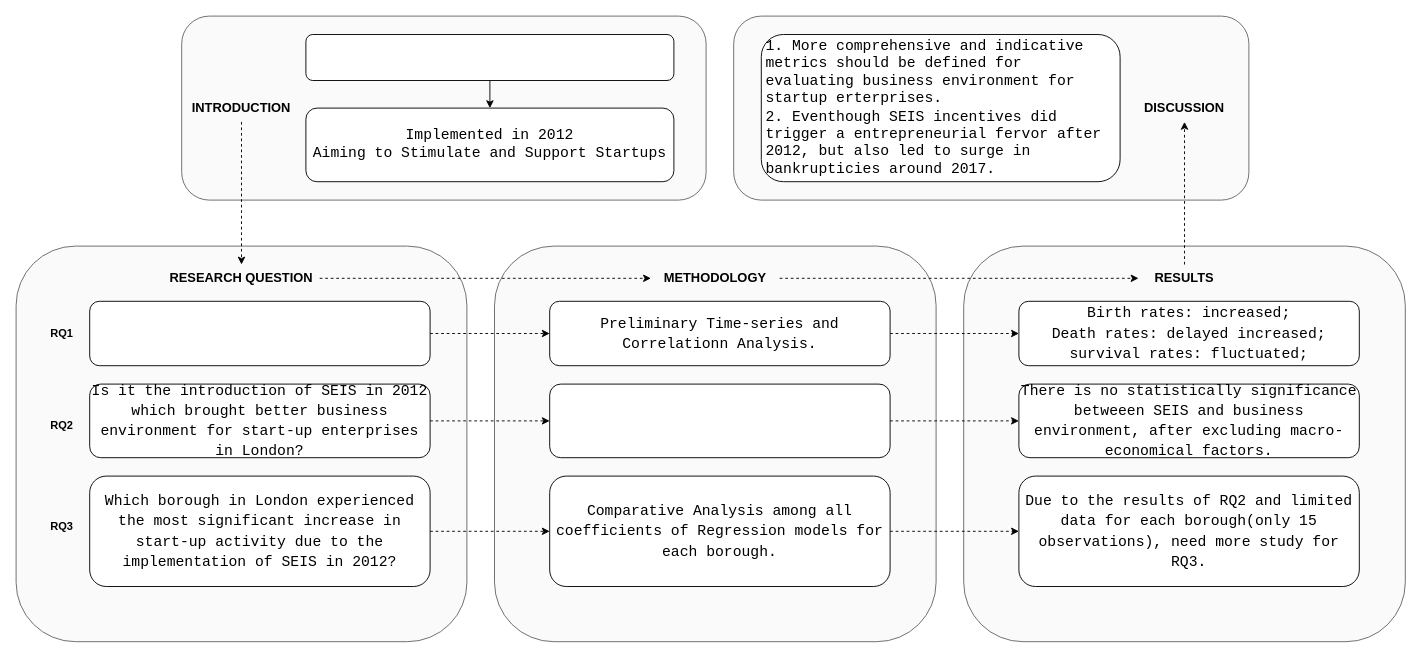
The diagram is 1421 pixels wide and 658 high, and some of its shapes have lost their labels. Here are the shapes that lost their labels. From the top down, the box of each, then its label:
(305, 34, 674, 80): Seed Enterprise Investment Scheme(SEIS)
(89, 300, 430, 366): Did enterprise birth rates and survival rates largely improved since 2012?
(549, 383, 890, 458): Causal Inference: Panel Regression and Regression Discontinuiuty Design.
